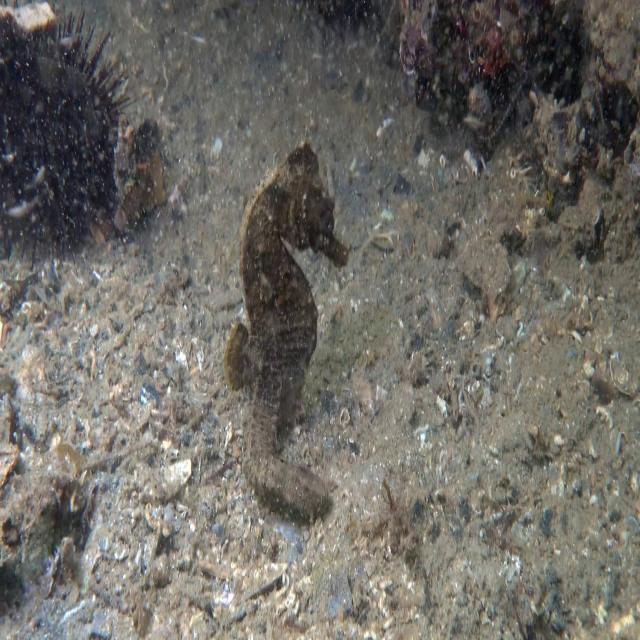Hippo: (274, 136, 353, 276)
